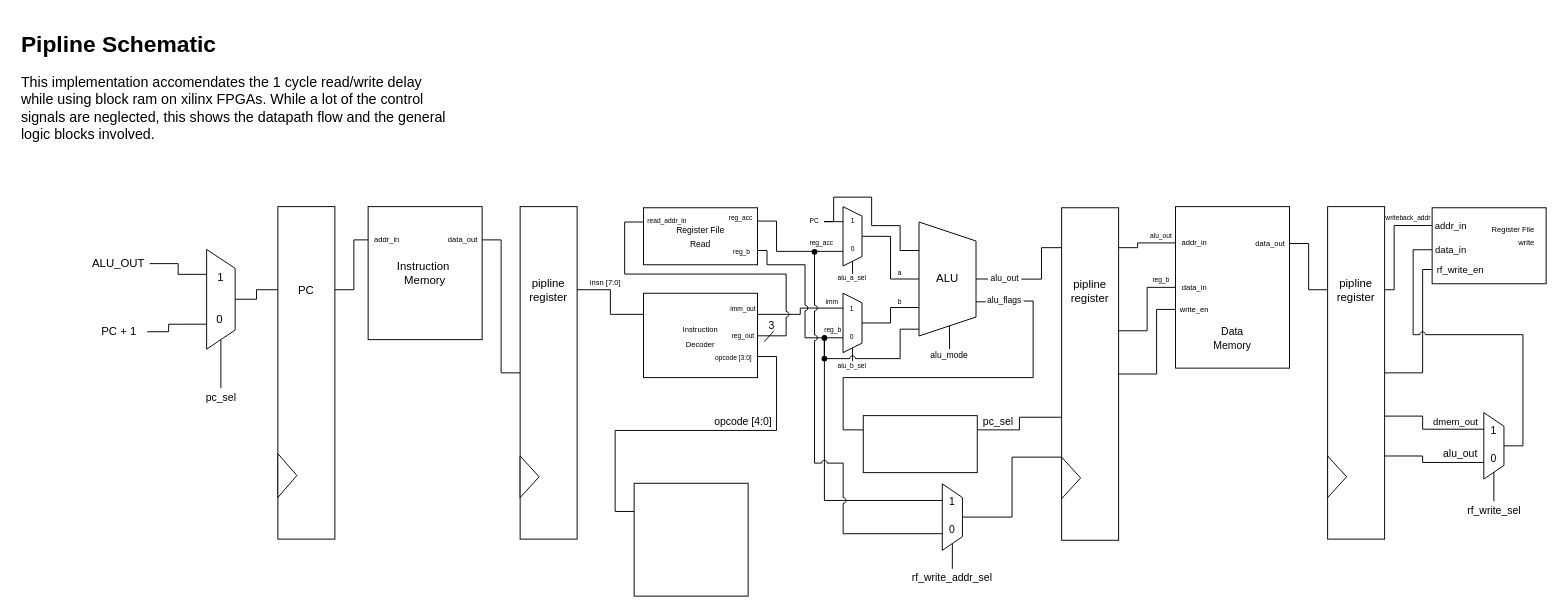
Some shapes in this 1563 by 613 pixel diagram are drawn without their labels. The centre of each missing label's shape, as x and y in pixels:
Branch Decision: the point at 919,444
Control: the point at 690,539
